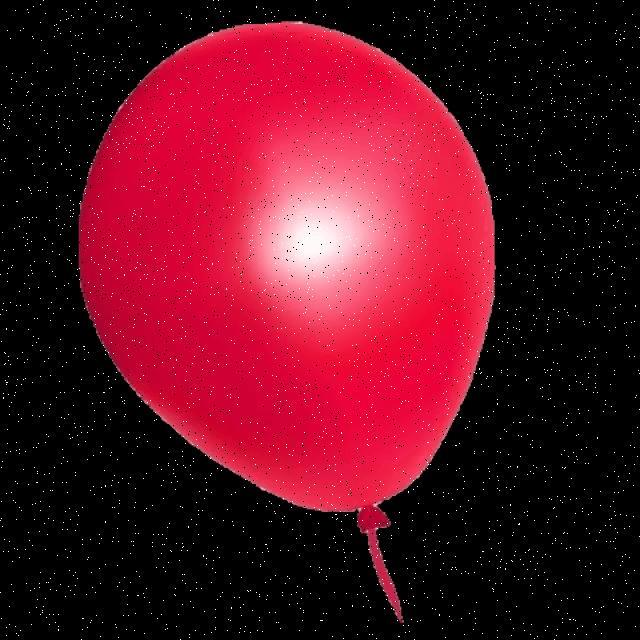red: (77, 19, 496, 623)
